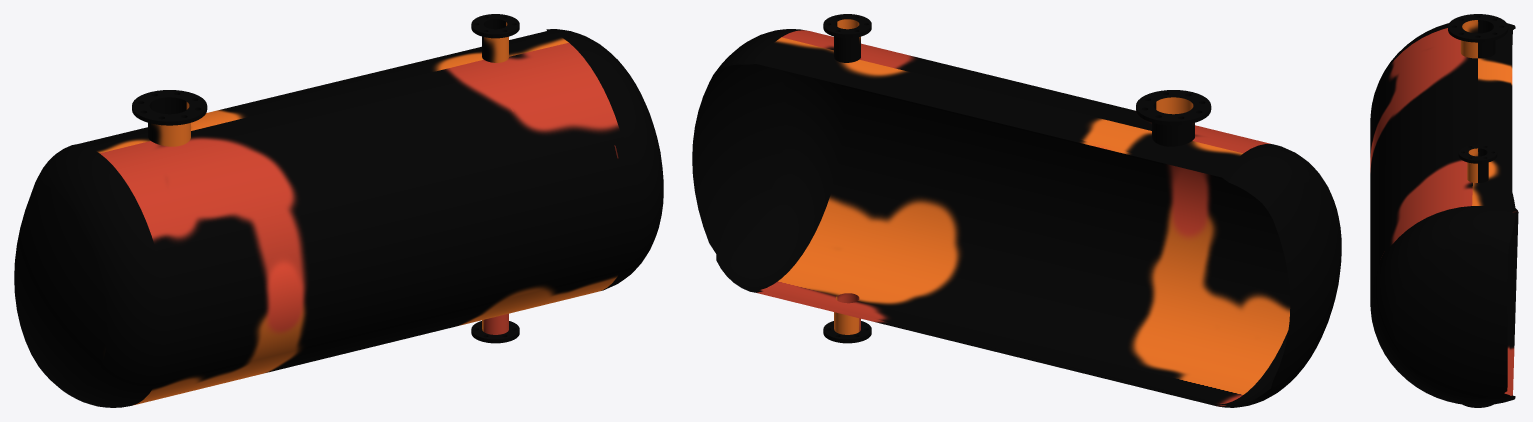
The picture shows the model from 3 angles, left to right: view 1: azimuth 30°, elevation 25°; view 2: azimuth 150°, elevation 25°; view 3: azimuth 270°, elevation 25°; orthographic projection. The views are drawn at different scales.
Parts seen in each view (by area): view 1: Пятый блок\Сеператор\Сеператор; view 2: Пятый блок\Сеператор\Сеператор; view 3: Пятый блок\Сеператор\Сеператор.
Boxes of the visible parts, <box> form: Пятый блок\Сеператор\Сеператор: <box>14,14,663,407</box>; Пятый блок\Сеператор\Сеператор: <box>692,14,1341,407</box>; Пятый блок\Сеператор\Сеператор: <box>1370,14,1518,407</box>.
Bounding box in the file's own units: 130000 × 63391 × 34398.
